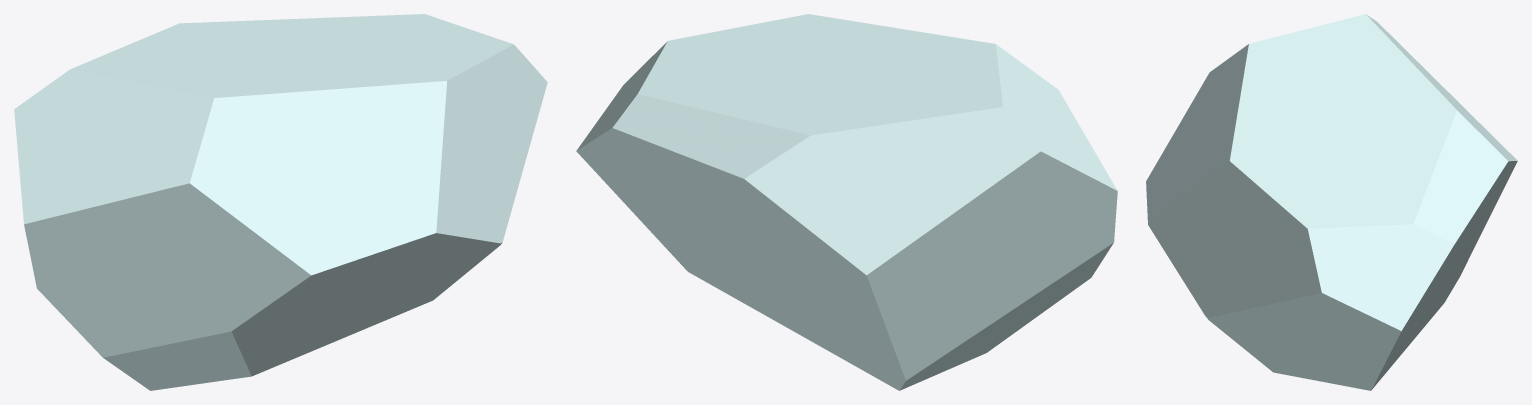
The model's file is stone-oval_white.glb.
3 renders of one model, left to right at view 1: azimuth 30°, elevation 25°; view 2: azimuth 150°, elevation 25°; view 3: azimuth 270°, elevation 25°, orthographic. The views are drawn at different scales.
Visible parts, largest first — view 1: stone-oval_winter; view 2: stone-oval_winter; view 3: stone-oval_winter.
Boxes of the visible parts, <box> form: stone-oval_winter: <box>14,14,547,390</box>; stone-oval_winter: <box>576,14,1117,390</box>; stone-oval_winter: <box>1146,14,1517,390</box>.
Bounding box in the file's own units: 1.04 × 0.5677 × 0.7121.
Materials: 1 (1 with a texture image).
